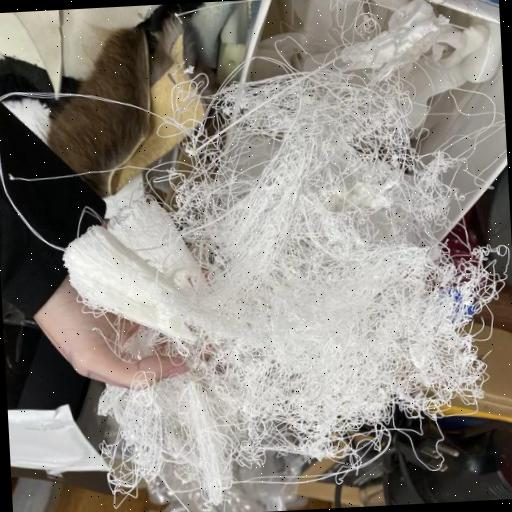spaghetti: (204, 355, 326, 467), (314, 244, 432, 346), (196, 264, 316, 356), (105, 384, 207, 482), (390, 313, 483, 416), (321, 350, 400, 456), (216, 69, 334, 139), (220, 181, 317, 260), (328, 74, 411, 166), (427, 243, 512, 317), (390, 152, 458, 230), (163, 78, 220, 158), (318, 173, 376, 246)
